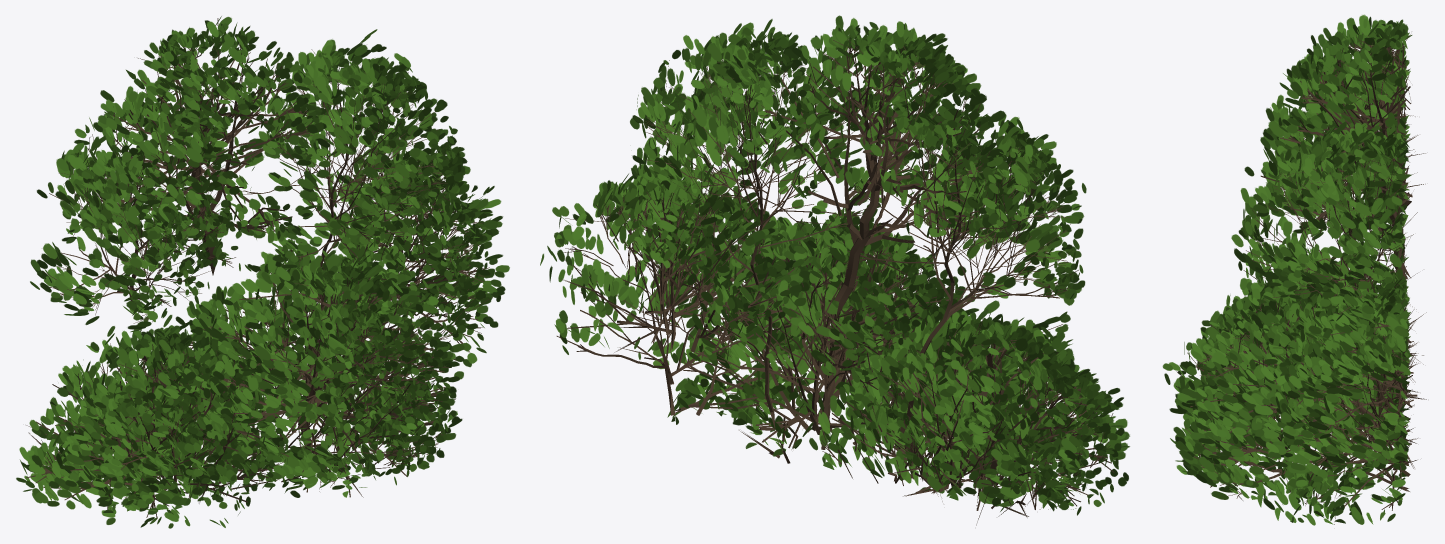
The picture shows the model from 3 angles, left to right: view 1: azimuth 30°, elevation 25°; view 2: azimuth 150°, elevation 25°; view 3: azimuth 270°, elevation 25°; orthographic projection. The views are drawn at different scales.
Visible parts, largest first — view 1: oak 01.001_trunk_Mat.001_0.424; view 2: oak 01.001_trunk_Mat.001_0.424; view 3: oak 01.001_trunk_Mat.001_0.424.
Part boxes in pixels (left/top/right/bottom): oak 01.001_trunk_Mat.001_0.424: left=16, top=16, right=509, bottom=528; oak 01.001_trunk_Mat.001_0.424: left=540, top=15, right=1129, bottom=525; oak 01.001_trunk_Mat.001_0.424: left=1162, top=14, right=1426, bottom=525.
Size of the model in its own units: 5.02 by 4.14 by 2.36.
Materials: 2 (1 with a texture image).
